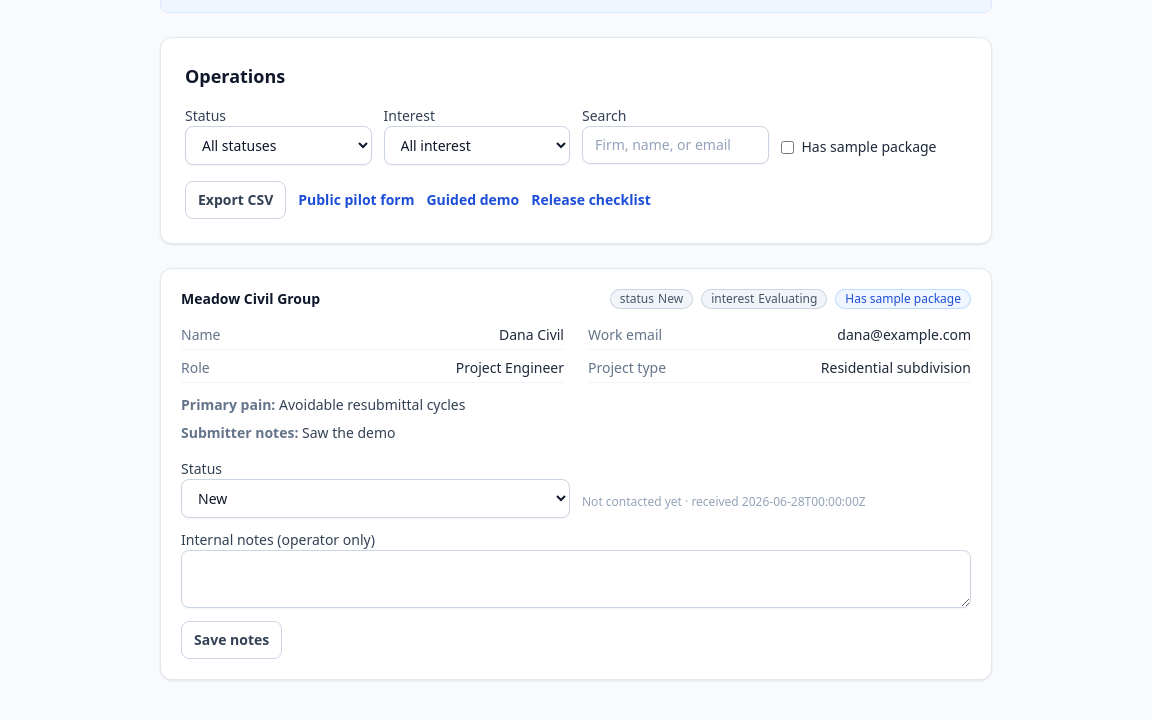
Scenario: Pilot requests admin operations › saves internal notes and reports success
(page scrolled)
Check: the list with test id "pilot-request-list" is shown, box [160,268,992,680]
Type "Called, will follow up" into the text box named "internal notes for".
click(576, 579); type("Called, will follow up")  # box [181,550,971,608]
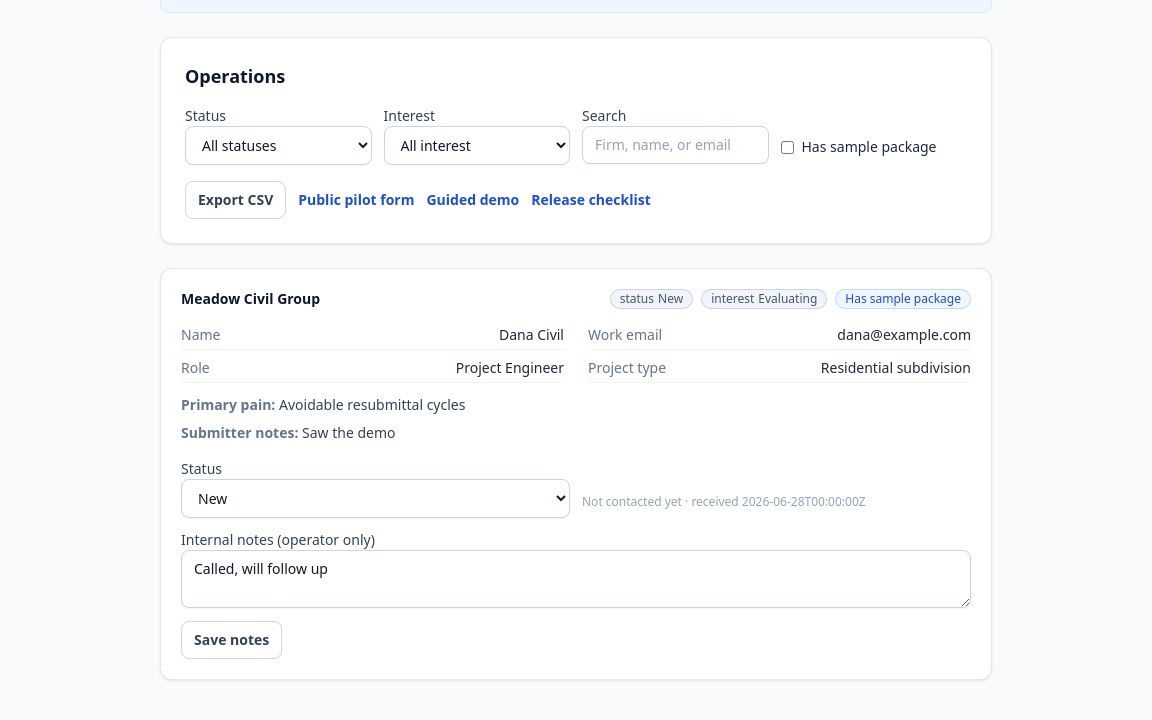
Click the button "Save notes".
click(232, 640)  # box [181,621,282,659]
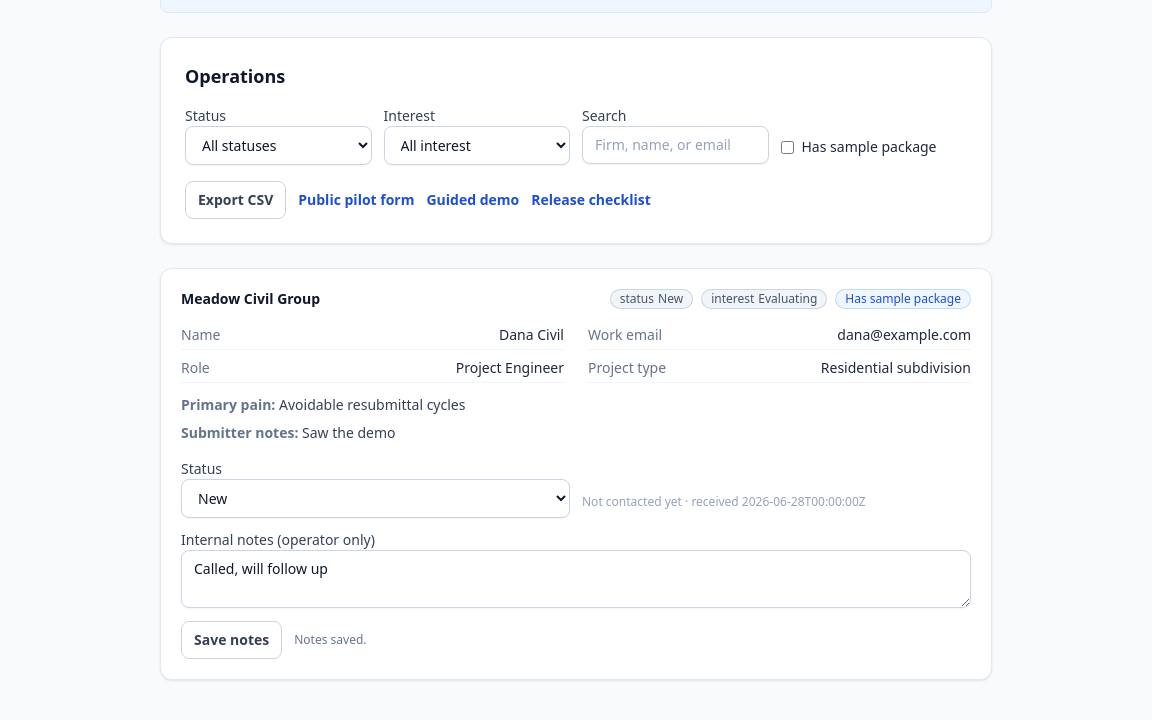
Check: the text "Notes saved." is shown, box [294,632,366,648]
